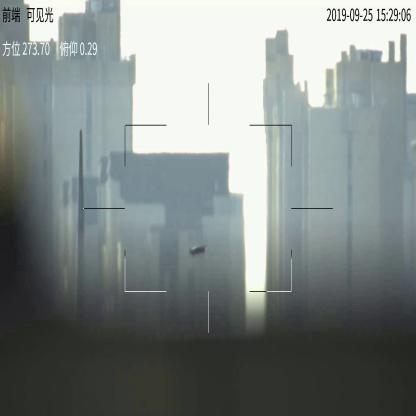uav: (189, 245, 205, 257)
